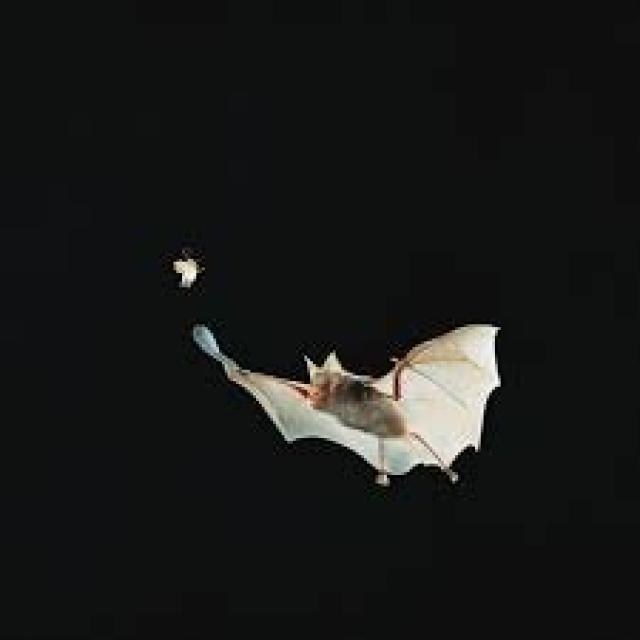Bat: (200, 326, 509, 508)
